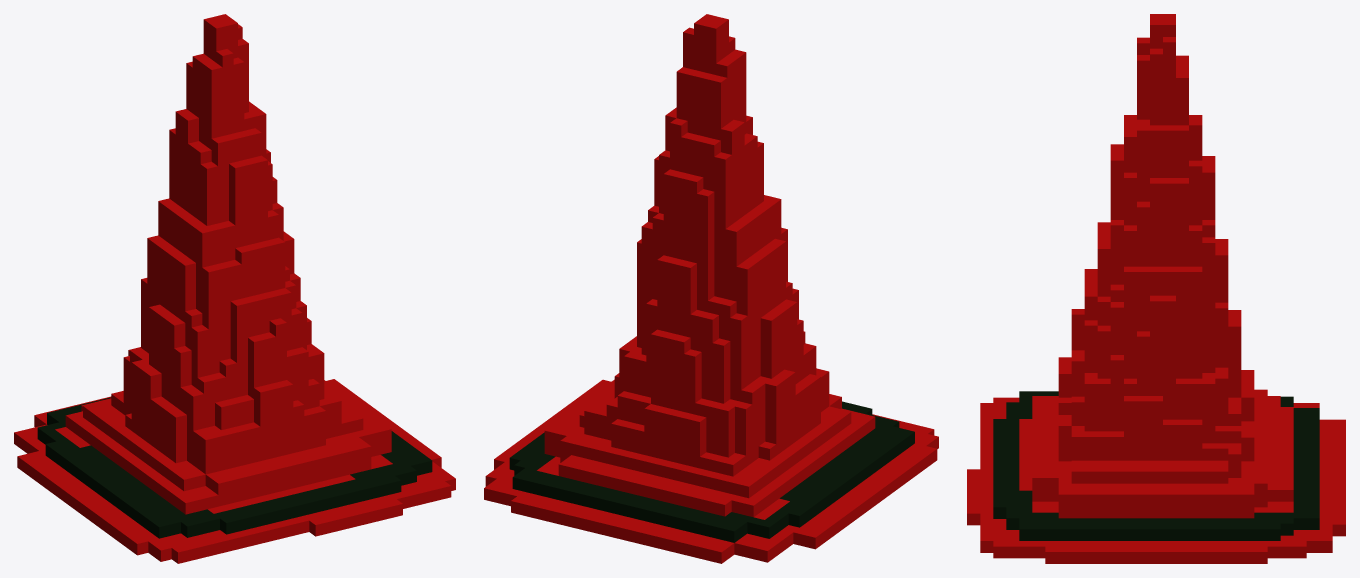
Rendered from sankakuko-n.obj.
The picture shows the model from 3 angles, left to right: view 1: azimuth 30°, elevation 25°; view 2: azimuth 150°, elevation 25°; view 3: azimuth 270°, elevation 25°; orthographic projection. The views are drawn at different scales.
Size of the model in its own units: 2.9 by 3.9 by 2.9.
Materials: 1 (1 with a texture image).
